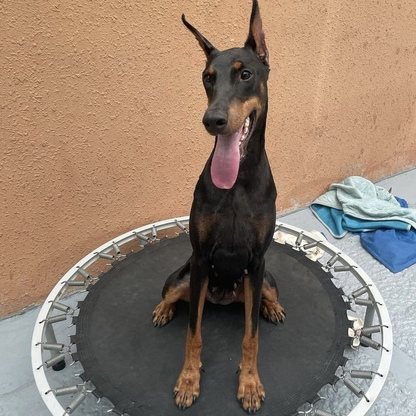doberman: (159, 8, 297, 416)
